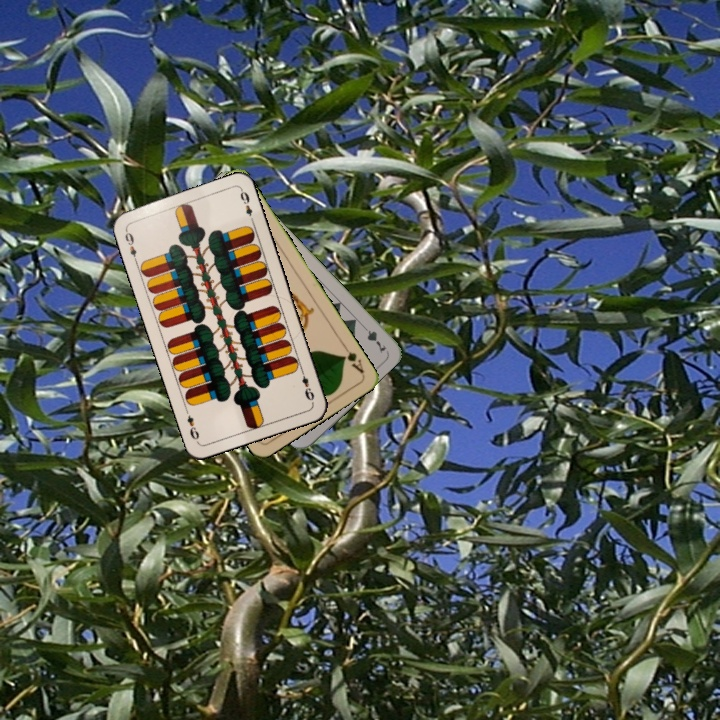E9: (297, 365, 317, 403), (121, 225, 140, 265)
G7: (357, 320, 389, 355)
GA: (338, 340, 366, 376)
